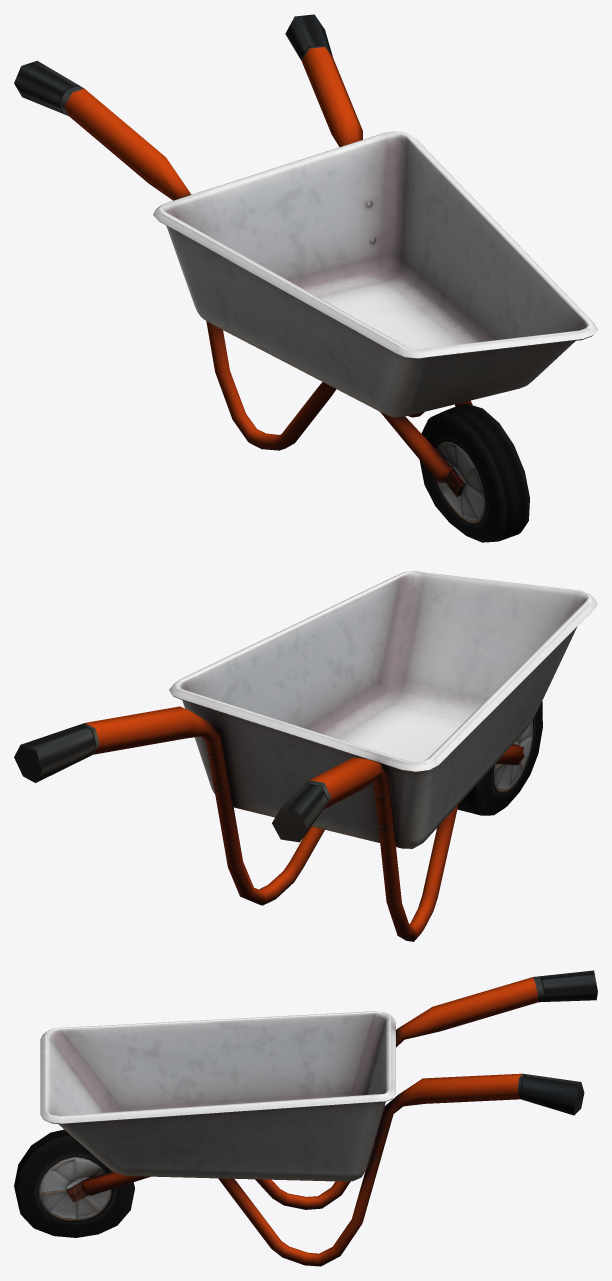
The model's file is Pushcart01.FBX.
The picture shows the model from 3 angles, top to bottom: view 1: azimuth 30°, elevation 25°; view 2: azimuth 150°, elevation 25°; view 3: azimuth 270°, elevation 25°; orthographic projection. The views are drawn at different scales.
Parts seen in each view (by area): view 1: Pushcart01; view 2: Pushcart01; view 3: Pushcart01.
Boxes of the visible parts, x1,y1,x2,y2 form: Pushcart01: [14, 14, 597, 542]; Pushcart01: [14, 571, 597, 941]; Pushcart01: [14, 970, 597, 1266].
Size of what is drawn, in the model's own units: 1.13 by 0.9571 by 2.37.
